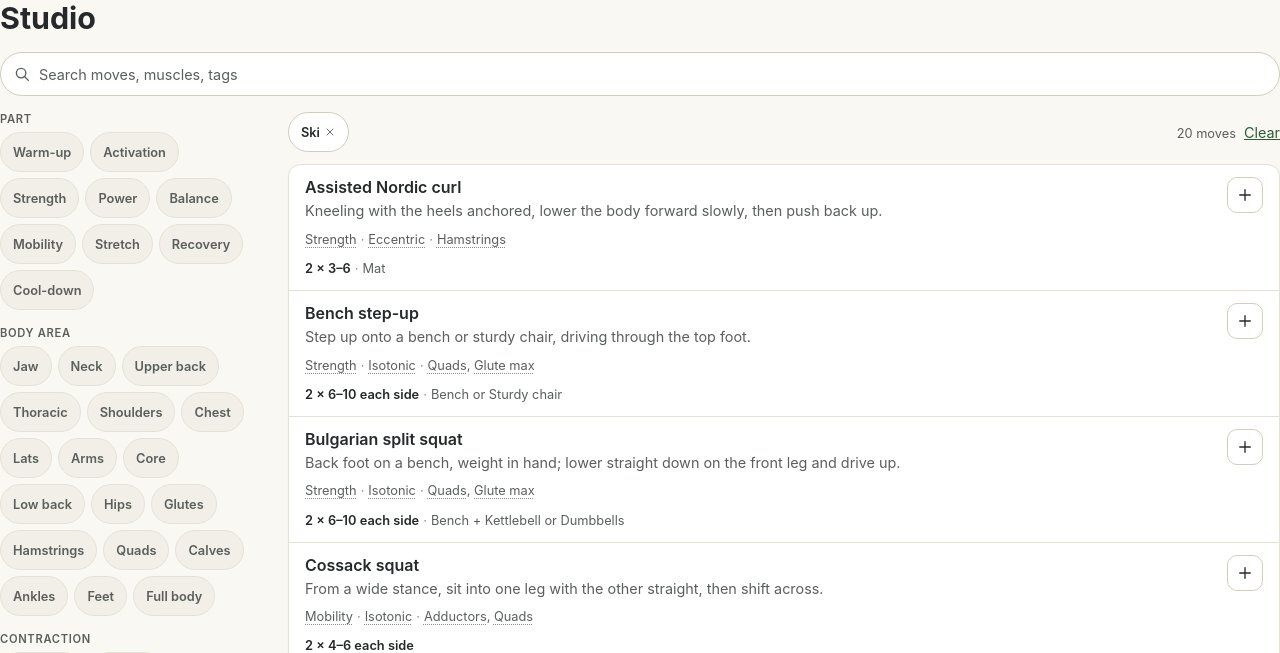
typing filters, live › Clear with nothing typed goes back to the home
Click the button "Clear".
click(1262, 132)  # box [1244,122,1279,143]
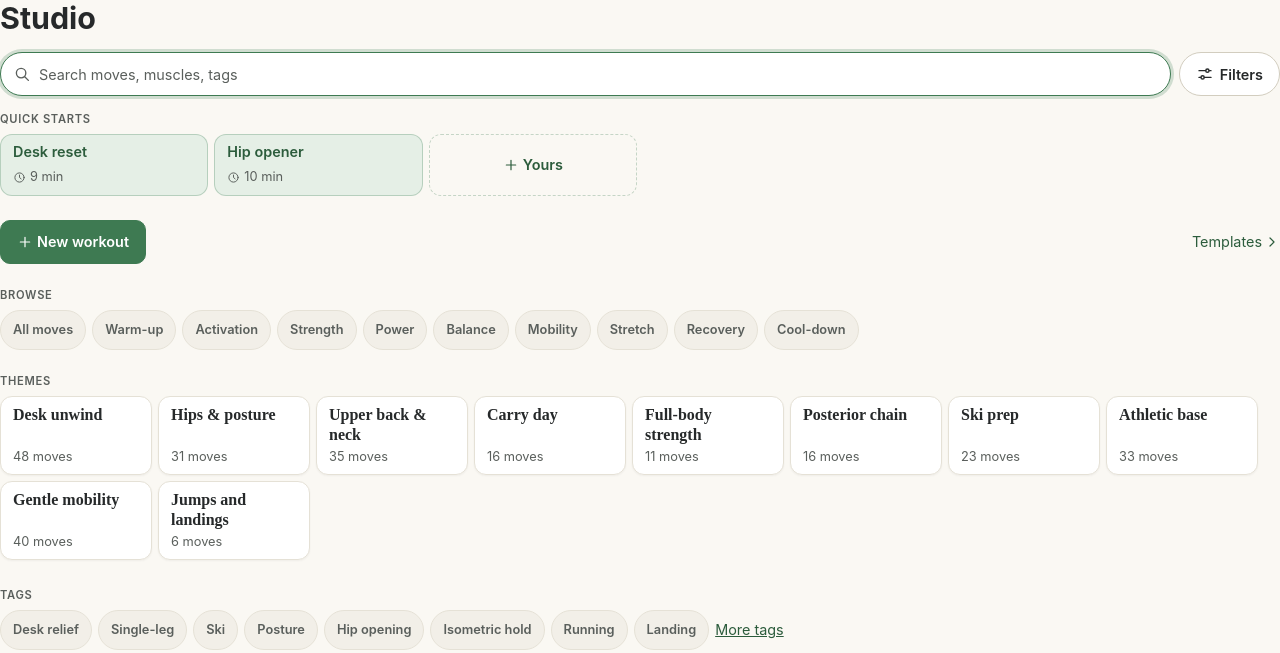
Expected: the text "Quick starts" is shown, [0,112,91,126]
